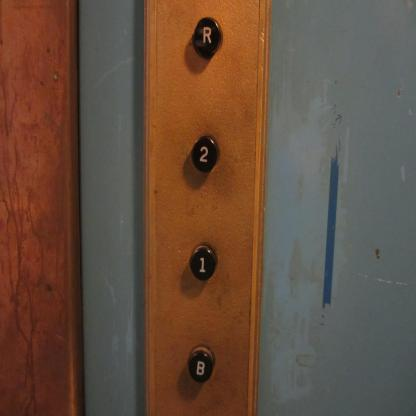1: (189, 242, 218, 282)
2: (190, 134, 219, 173)
B: (187, 346, 214, 384)
R: (192, 14, 223, 57)
